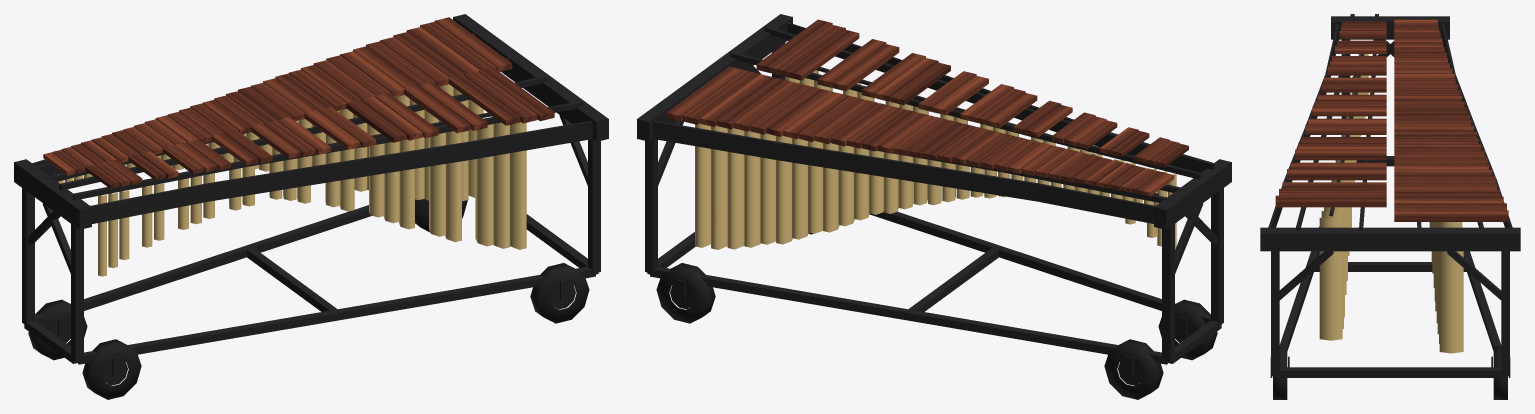
Rendered from marimba-4.6-low.glb.
The picture shows the model from 3 angles, left to right: view 1: azimuth 30°, elevation 25°; view 2: azimuth 150°, elevation 25°; view 3: azimuth 270°, elevation 25°; orthographic projection. The views are drawn at different scales.
Visible parts, largest first — view 1: bars-rosewood, frame, resonators-gold, artwork, rubber; view 2: frame, bars-rosewood, resonators-gold, rubber; view 3: bars-rosewood, frame, resonators-gold, rubber.
Boxes of the visible parts, <box> form: bars-rosewood: <box>43,17,554,188</box>; frame: <box>14,14,608,385</box>; resonators-gold: <box>57,84,526,276</box>; artwork: <box>92,122,592,223</box>; rubber: <box>28,199,589,399</box>; frame: <box>637,14,1231,385</box>; bars-rosewood: <box>666,19,1188,196</box>; resonators-gold: <box>695,70,1176,249</box>; rubber: <box>656,232,1217,399</box>; bars-rosewood: <box>1275,19,1508,221</box>; frame: <box>1260,14,1520,377</box>; resonators-gold: <box>1319,54,1463,353</box>; rubber: <box>1273,346,1507,399</box>.
Size of the model in its own units: 2.38 by 0.9759 by 1.21.
5 materials, 1 textured.
